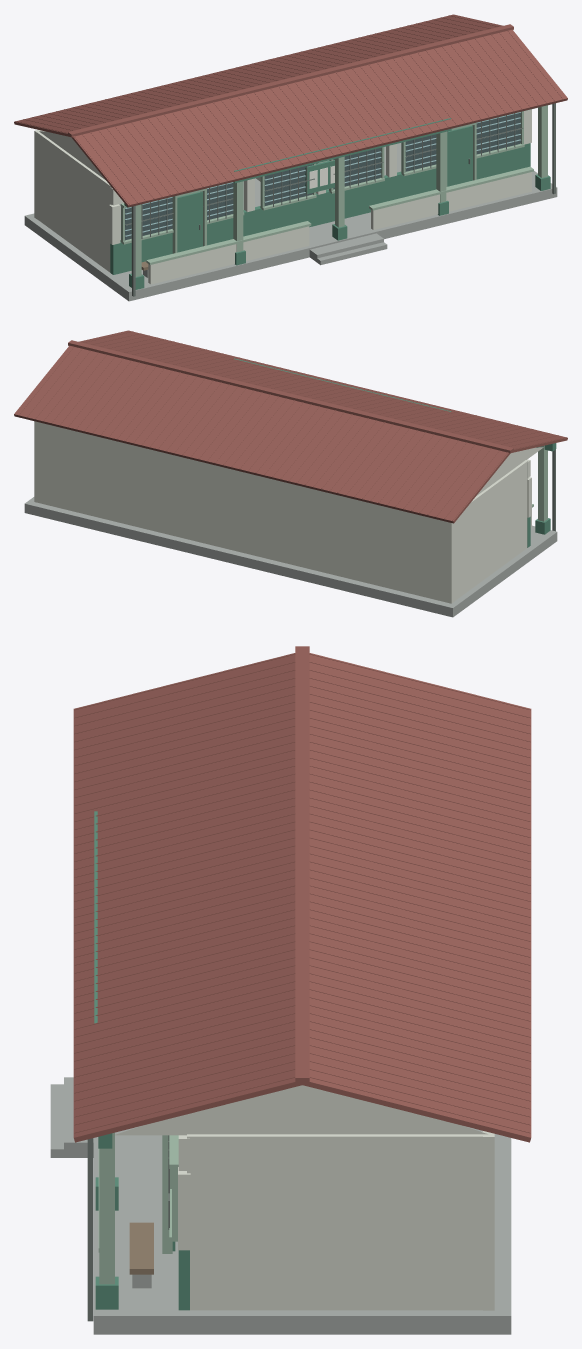
File: PhilippineSchool.glb
3 renders of one model, top to bottom at view 1: azimuth 30°, elevation 25°; view 2: azimuth 150°, elevation 25°; view 3: azimuth 270°, elevation 25°, orthographic. The views are drawn at different scales.
Visible parts, largest first — view 1: Pitched galvanized roof, Pitched galvanized roof.001, Raised school slab, Front dado, Masonry end or dividing wall, Low veranda parapet, Low veranda parapet.001, Roof ridge cap, Classroom door, Classroom door.001, Parapet coping, Parapet coping.001 (+12 smaller); view 2: Pitched galvanized roof.001, Rear classroom wall, Pitched galvanized roof, Raised school slab, Masonry end or dividing wall, Roof ridge cap, Veranda concrete column, Masonry gable; view 3: Pitched galvanized roof.001, Pitched galvanized roof, Masonry end or dividing wall.002, Raised school slab, Masonry gable.001, Roof ridge cap, Veranda concrete column.004, Rear classroom wall, Veranda bench seat.001, Rain downpipe.001, Central entrance step, Window pier.006 (+2 smaller).
Boxes of the visible parts, box(x1,y1,x2,y2) form: Pitched galvanized roof: box(72, 29, 567, 207); Pitched galvanized roof.001: box(14, 14, 503, 136); Raised school slab: box(24, 143, 557, 301); Front dado: box(110, 143, 530, 274); Masonry end or dividing wall: box(37, 130, 111, 272); Low veranda parapet: box(148, 226, 309, 284); Low veranda parapet.001: box(371, 172, 531, 229); Roof ridge cap: box(68, 24, 513, 137); Classroom door: box(177, 191, 202, 252); Classroom door.001: box(447, 125, 472, 186); Parapet coping: box(146, 221, 311, 264); Parapet coping.001: box(369, 166, 533, 210); Pitched galvanized roof.001: box(14, 345, 509, 523); Rear classroom wall: box(34, 421, 454, 603); Pitched galvanized roof: box(78, 330, 567, 452); Raised school slab: box(24, 497, 557, 617); Masonry end or dividing wall: box(454, 460, 528, 600); Roof ridge cap: box(68, 340, 513, 453); Veranda concrete column: box(538, 445, 547, 521); Masonry gable: box(476, 447, 543, 495); Pitched galvanized roof.001: box(302, 653, 531, 1142); Pitched galvanized roof: box(73, 653, 302, 1142); Masonry end or dividing wall.002: box(187, 1131, 488, 1310); Raised school slab: box(93, 1126, 511, 1334); Masonry gable.001: box(115, 1085, 487, 1135); Roof ridge cap: box(295, 646, 309, 1083); Veranda concrete column.004: box(99, 1132, 114, 1284); Rear classroom wall: box(483, 1131, 494, 1310); Veranda bench seat.001: box(129, 1222, 153, 1274); Rain downpipe.001: box(87, 1138, 93, 1321); Central entrance step: box(50, 1084, 93, 1157); Window pier.006: box(178, 1167, 190, 1250).
Bounding box in the file's own units: 15.9 × 4.52 × 7.48.
